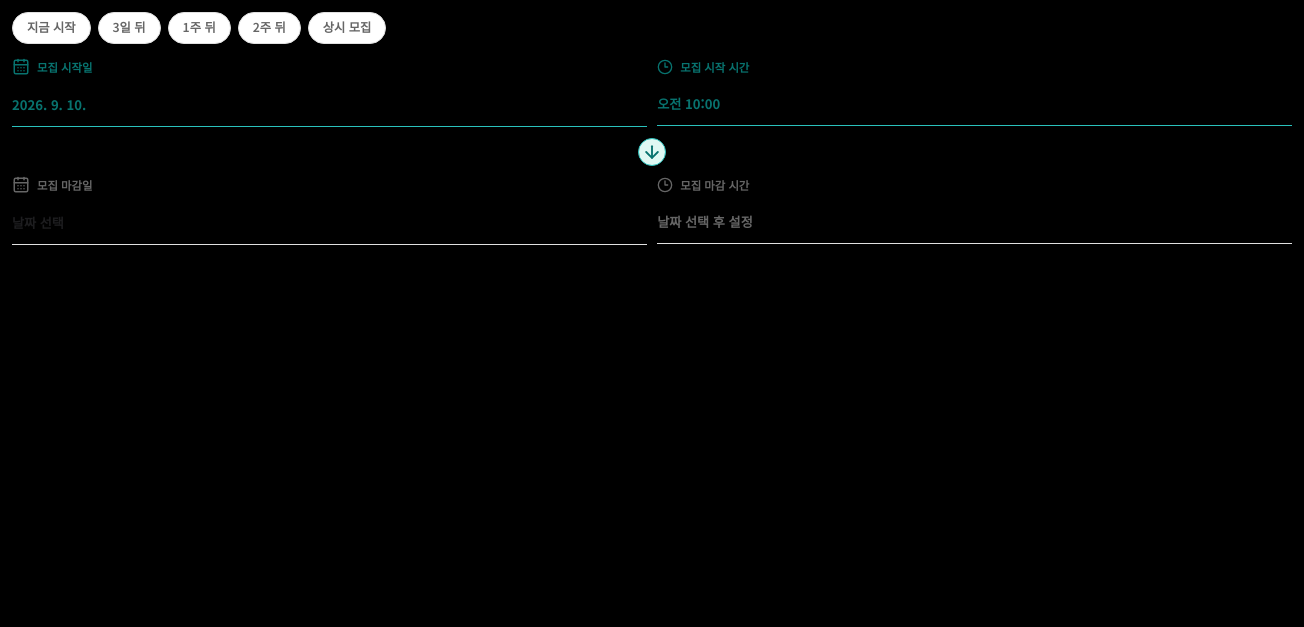
Test: DateRangePicker › Given a focused calendar day, When arrow and Page Down are pressed, Then focus moves across days and months
This screenshot has width=1304, height=627.
Click the button with aria-label "모집 마감일 선택" at (38, 222), box [12,201,647,245]
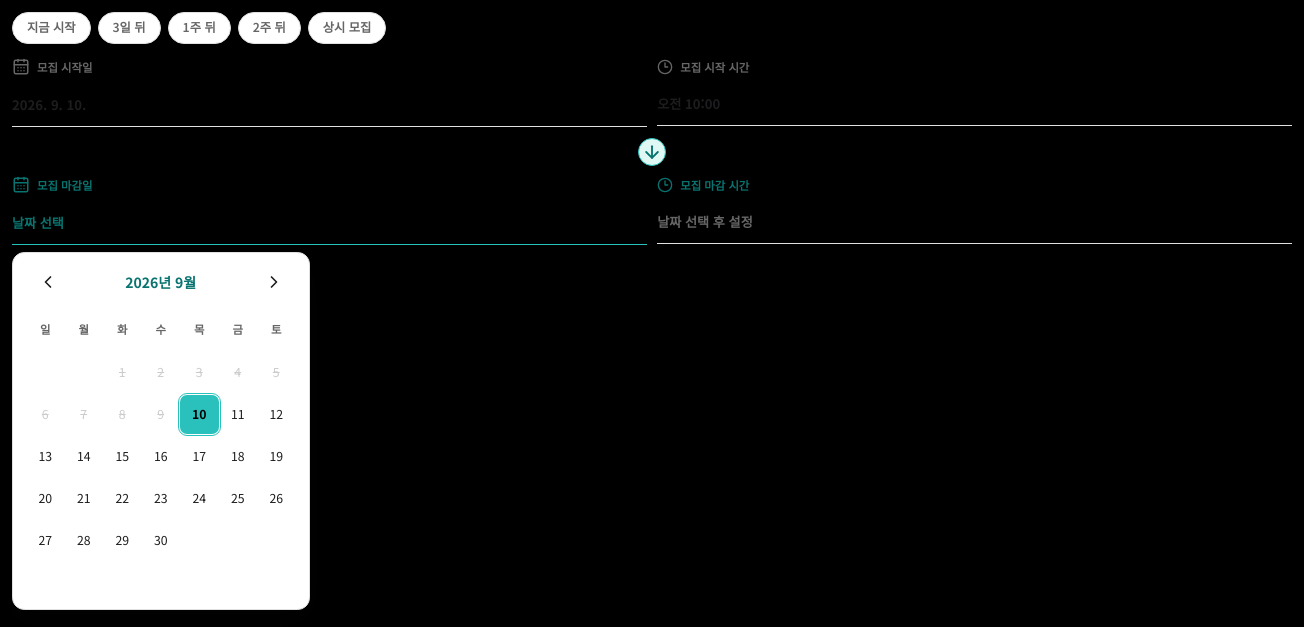
Press Arrowright
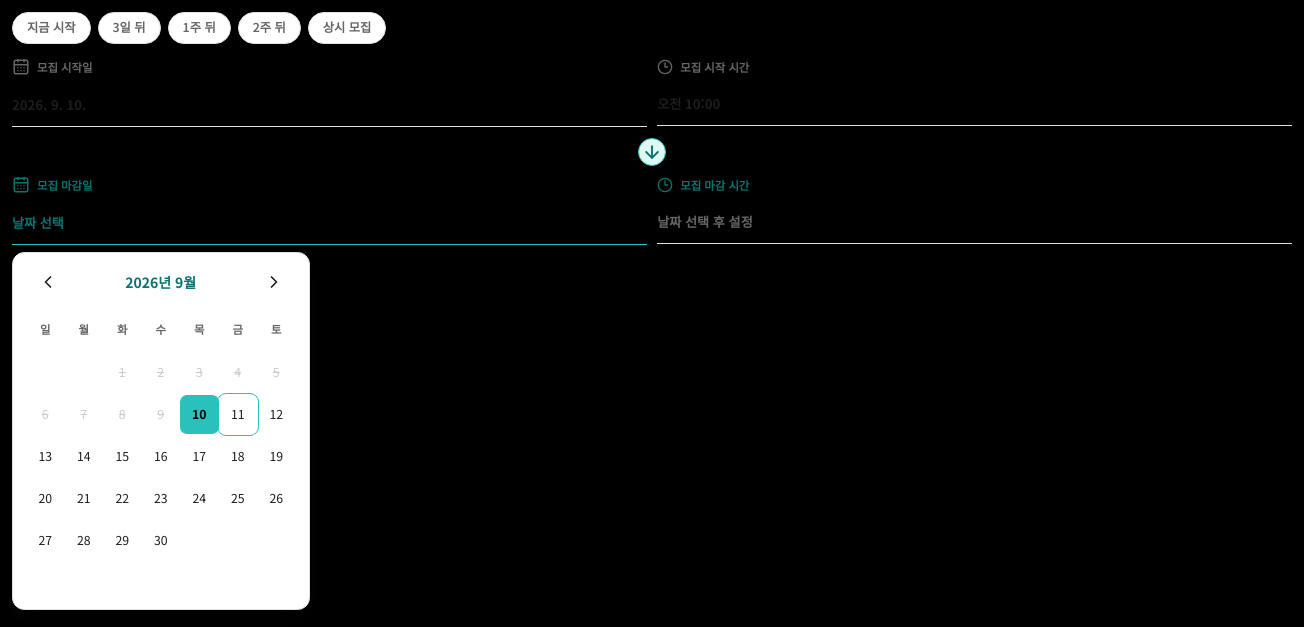
Press Pagedown
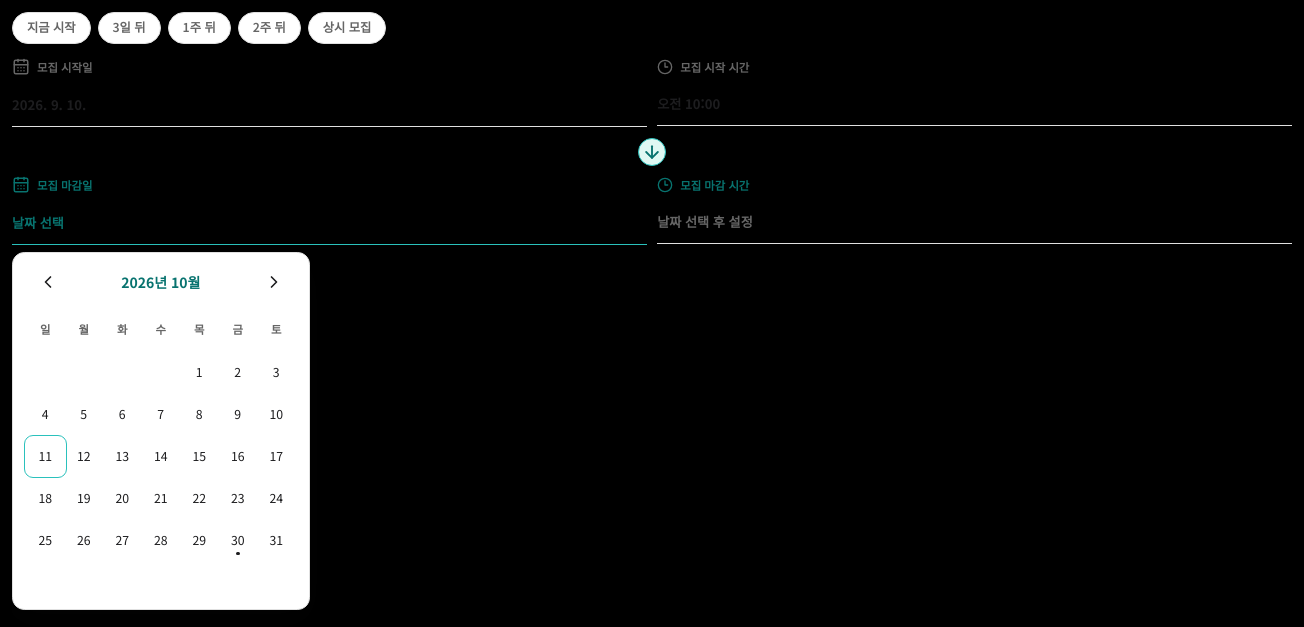
Expected: the text "2026년 10월" is shown, [121,272,200,292]
